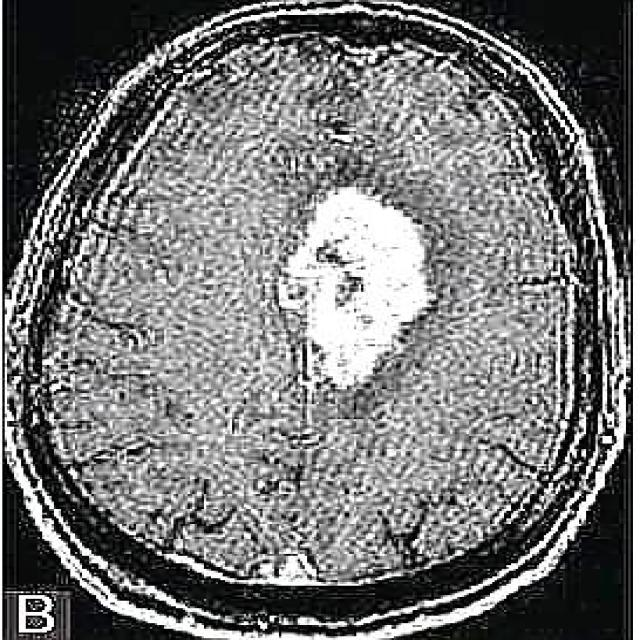Tumor-Cell: (275, 197, 422, 375)
